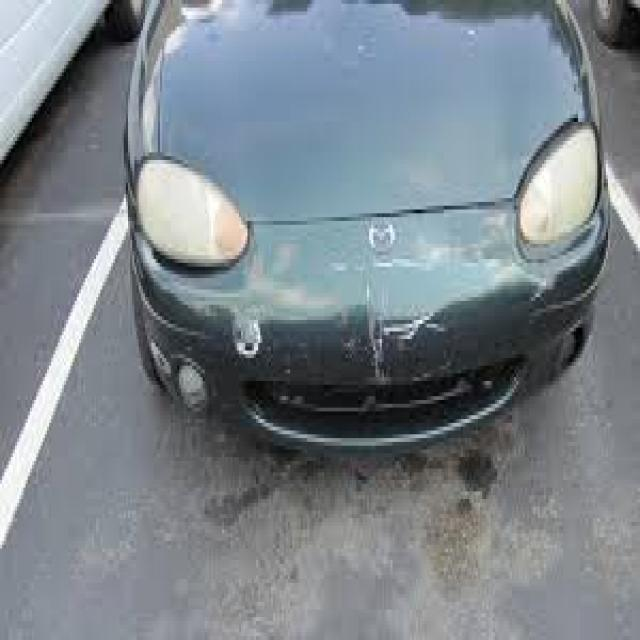minor: (335, 274, 423, 403)
